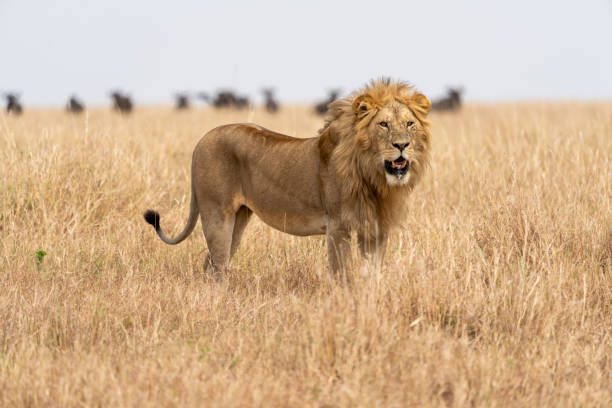lion: (311, 66, 456, 248)
